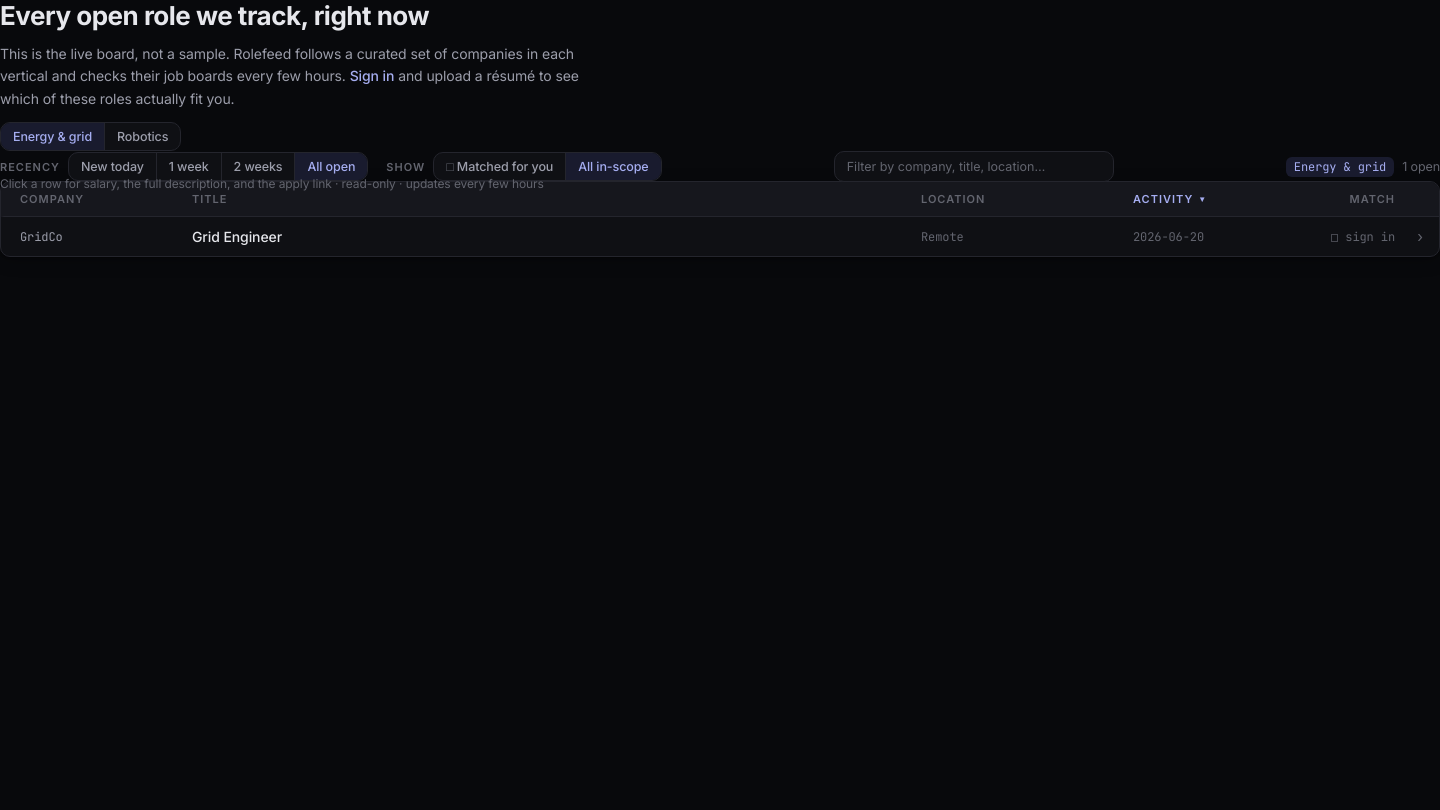
it: Demo › opens the detail panel with the sign-in offer in place of a rationale
The image size is (1440, 810).
Expected: the link "Grid Engineer" is shown, x1=192 y1=228 x2=282 y2=245
Click the text "GridCo" at {"x": 41, "y": 237}, box x1=20 y1=229 x2=63 y2=245
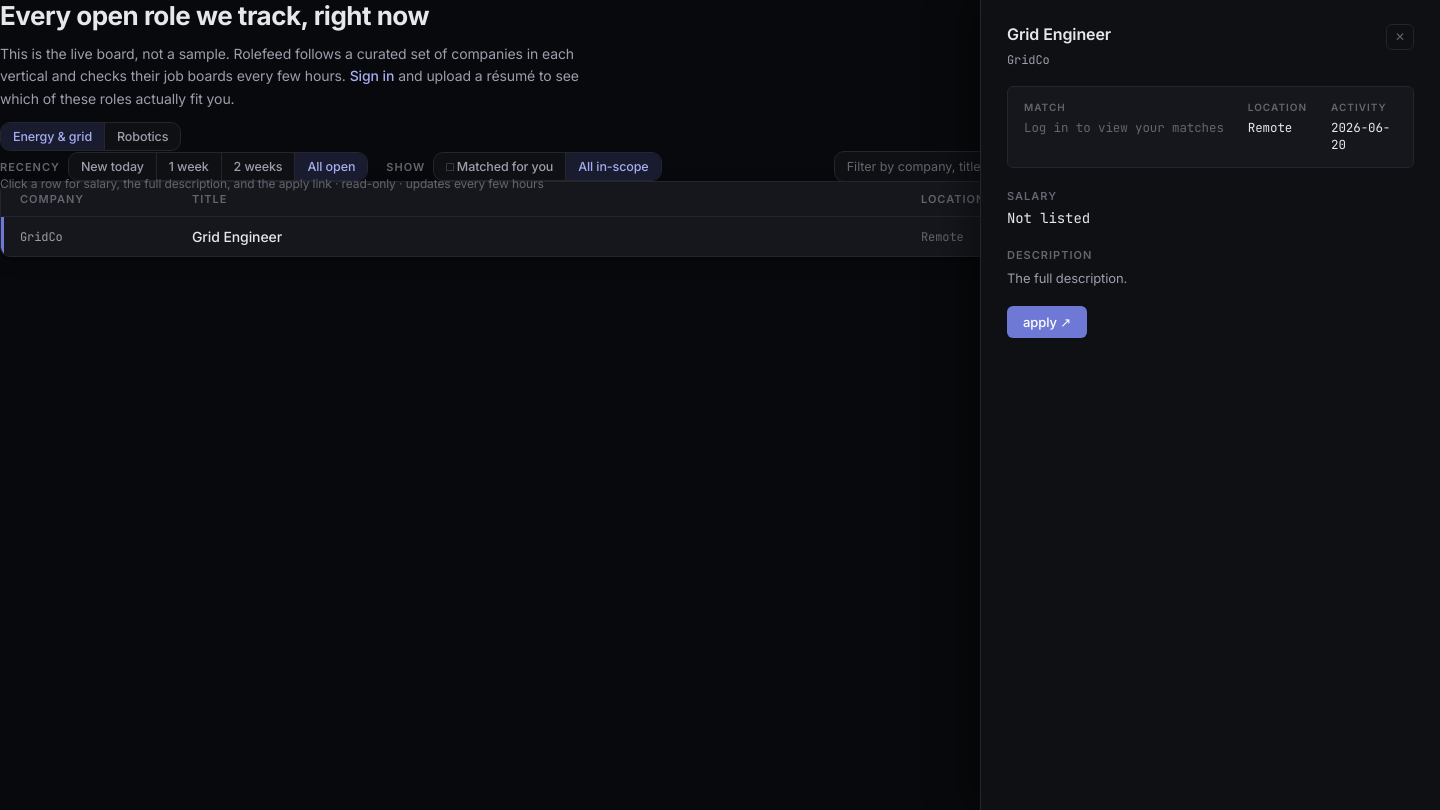
Expected: the text "The full description." is shown, x1=1007 y1=270 x2=1127 y2=286
Expected: the link "Log in to view your matches" is shown, x1=1024 y1=119 x2=1224 y2=136
